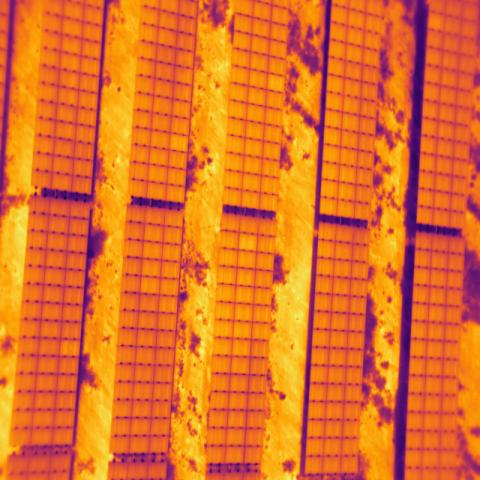fault: (238, 232, 258, 253)
